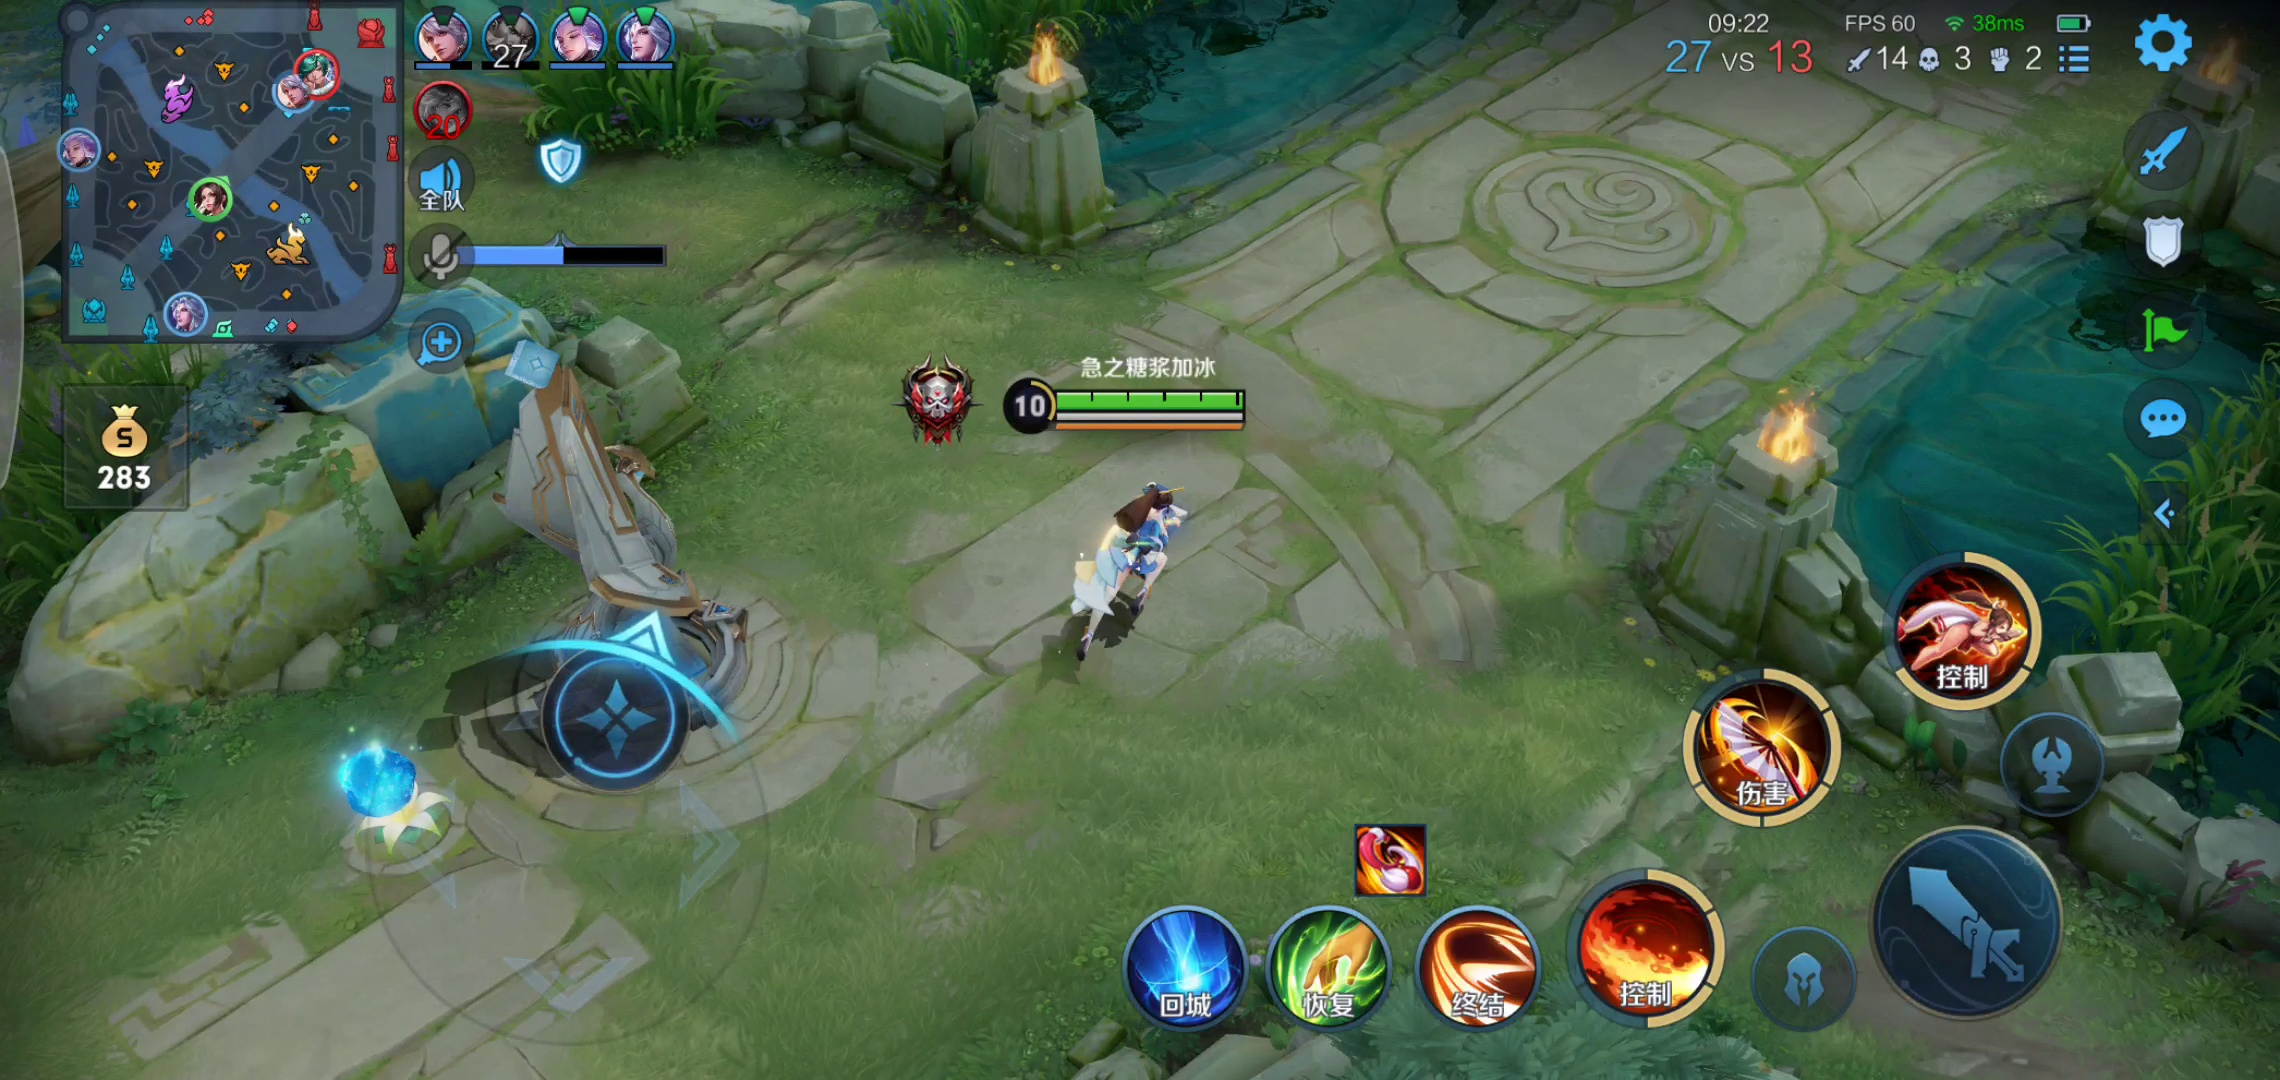grass: (2056, 343, 2279, 757), (7, 343, 212, 632), (513, 51, 740, 177), (883, 1, 1149, 76)
hero: (1045, 480, 1217, 667)
tower: (486, 363, 763, 751)
